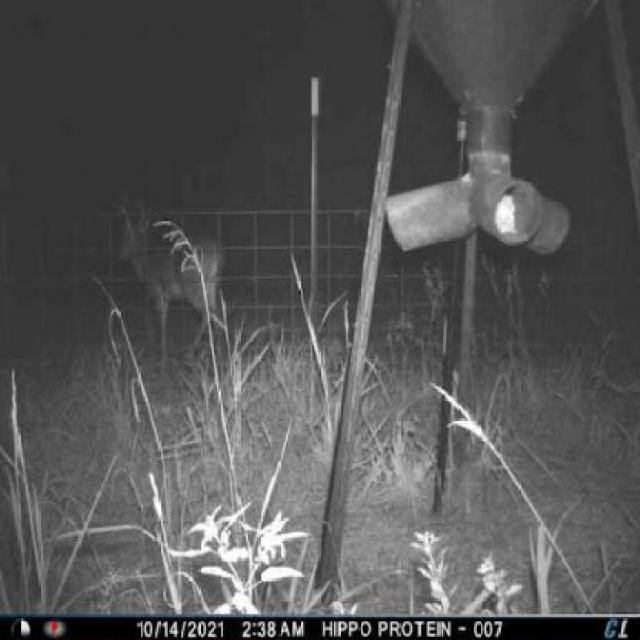Deer: (107, 186, 239, 377)
